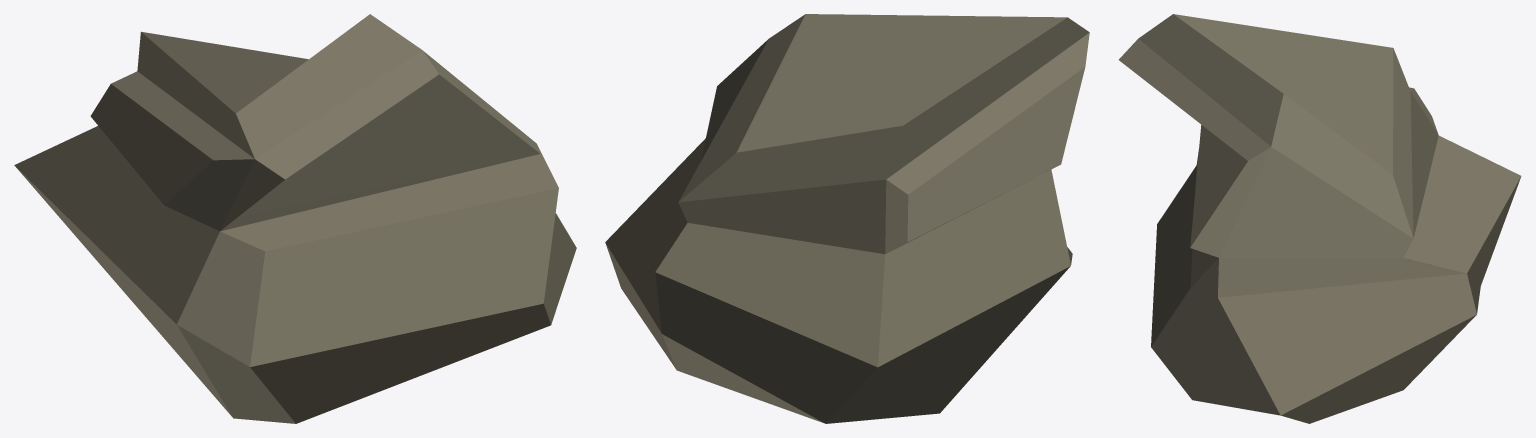
File: rock1.glb
3 views of the same model, side by side, from view 1: azimuth 30°, elevation 25°; view 2: azimuth 150°, elevation 25°; view 3: azimuth 270°, elevation 25° (orthographic). The views are drawn at different scales.
Visible parts, largest first — view 1: Cube; view 2: Cube; view 3: Cube.
Boxes of the visible parts, <box> form: Cube: <box>14,14,576,423</box>; Cube: <box>605,14,1089,423</box>; Cube: <box>1119,14,1521,423</box>.
Size of the model in its own units: 6.86 by 5.56 by 6.51.
1 material, 1 textured.
